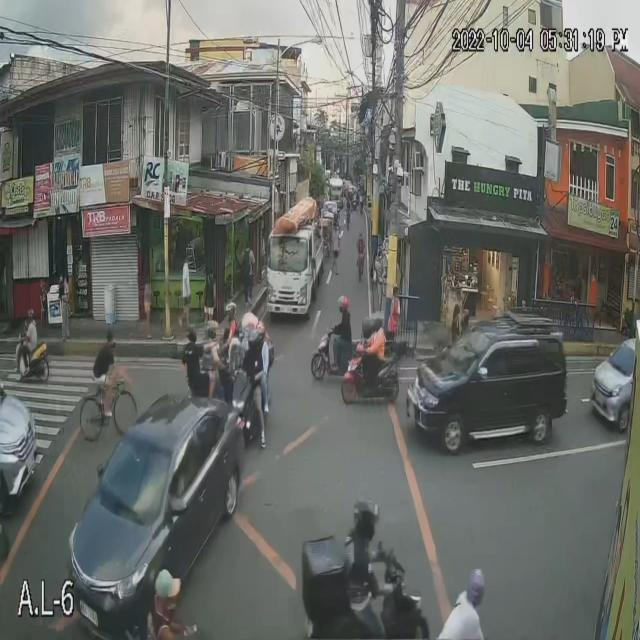Full-Faced: (349, 496, 376, 539), (202, 318, 217, 343), (223, 301, 237, 324), (183, 322, 197, 344), (338, 289, 349, 315), (248, 330, 258, 354), (372, 312, 384, 332), (25, 307, 35, 326), (256, 321, 264, 337), (364, 316, 368, 339)
Invalid: (464, 566, 485, 600)
